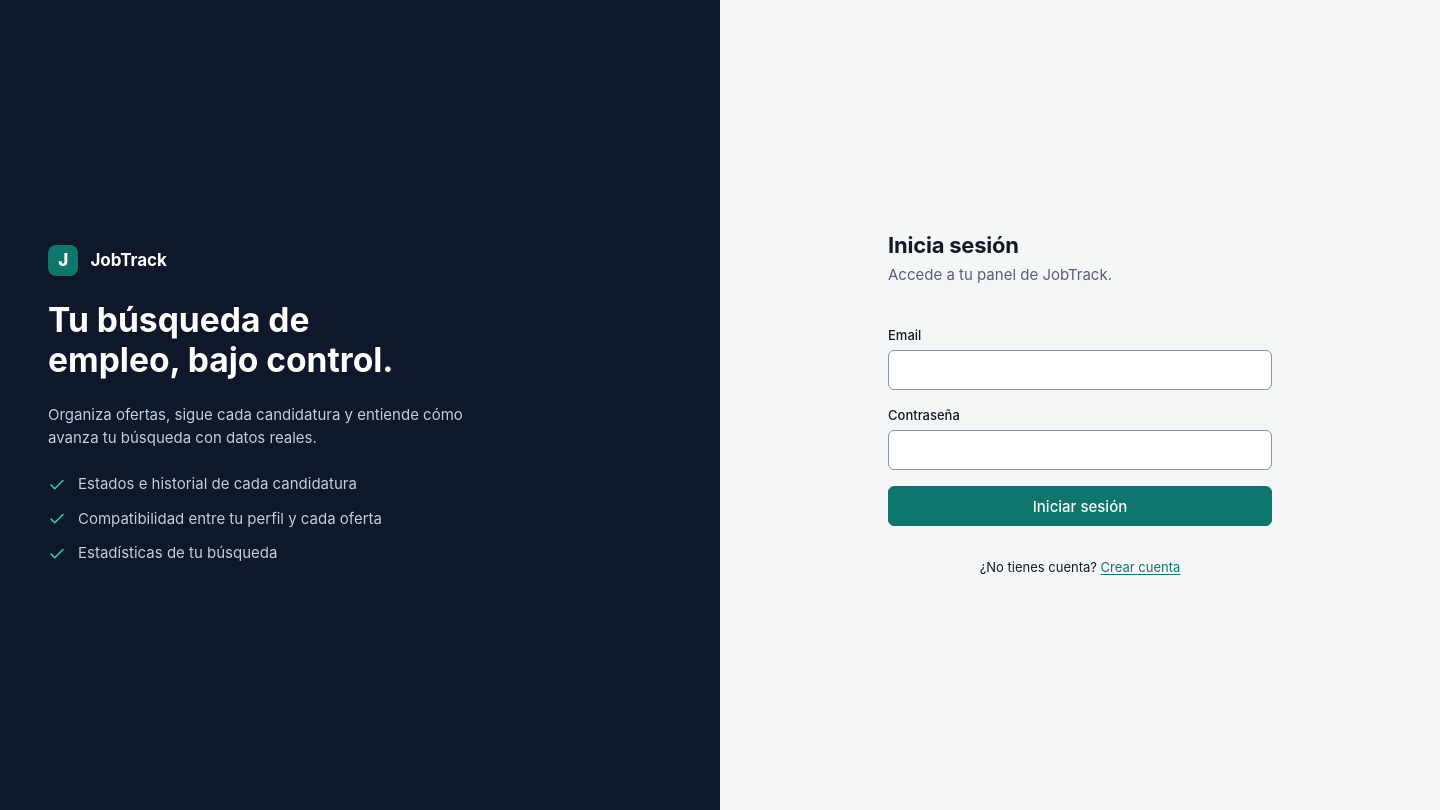
LoginComponent › muestra el error del servidor y no navega
Type "ana@example.com" into the field with id "email" at coordinates (1080, 370), box [888,350,1272,390]
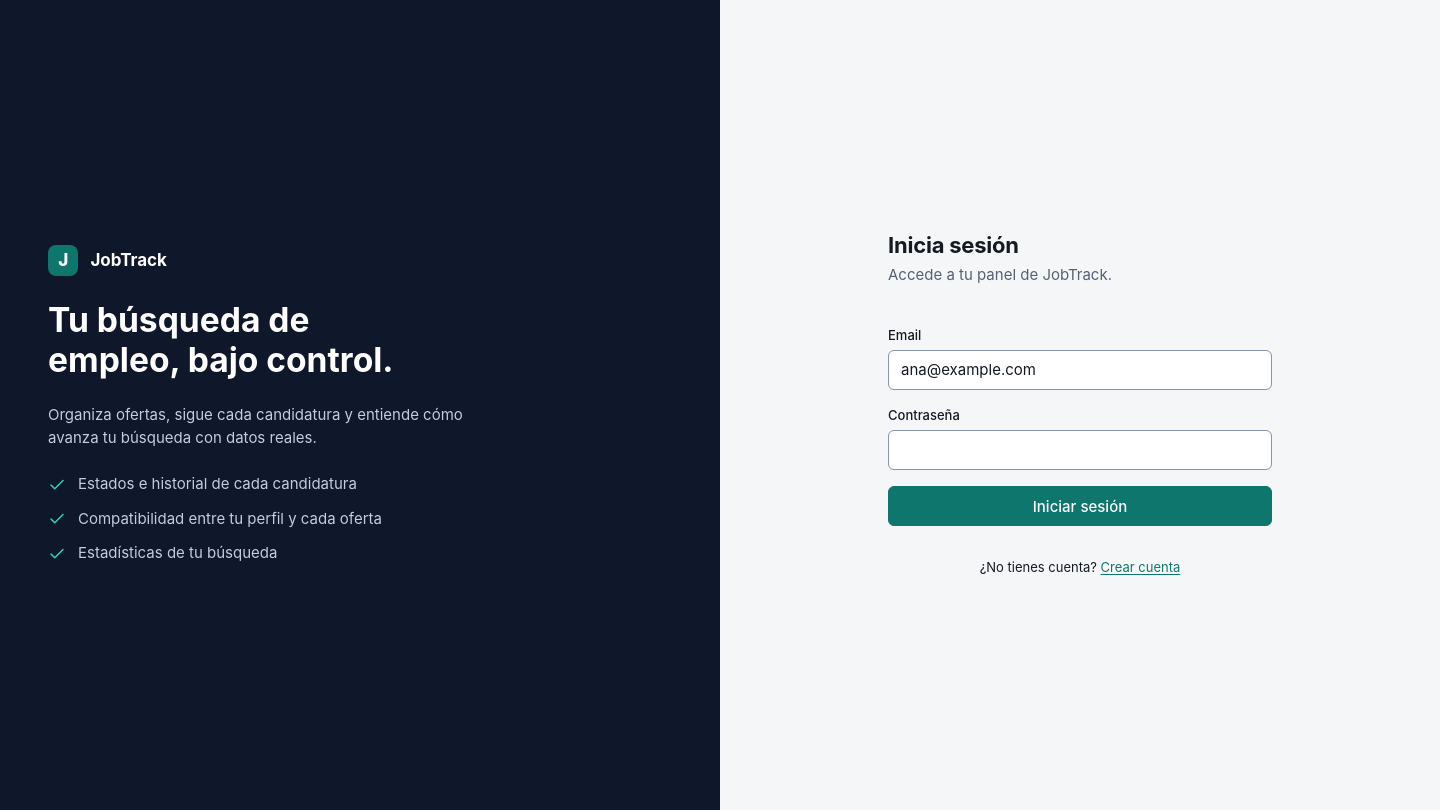
Type "wrong-password" into the password field labelled "Contraseña" at coordinates (1080, 450), box [888,430,1272,470]
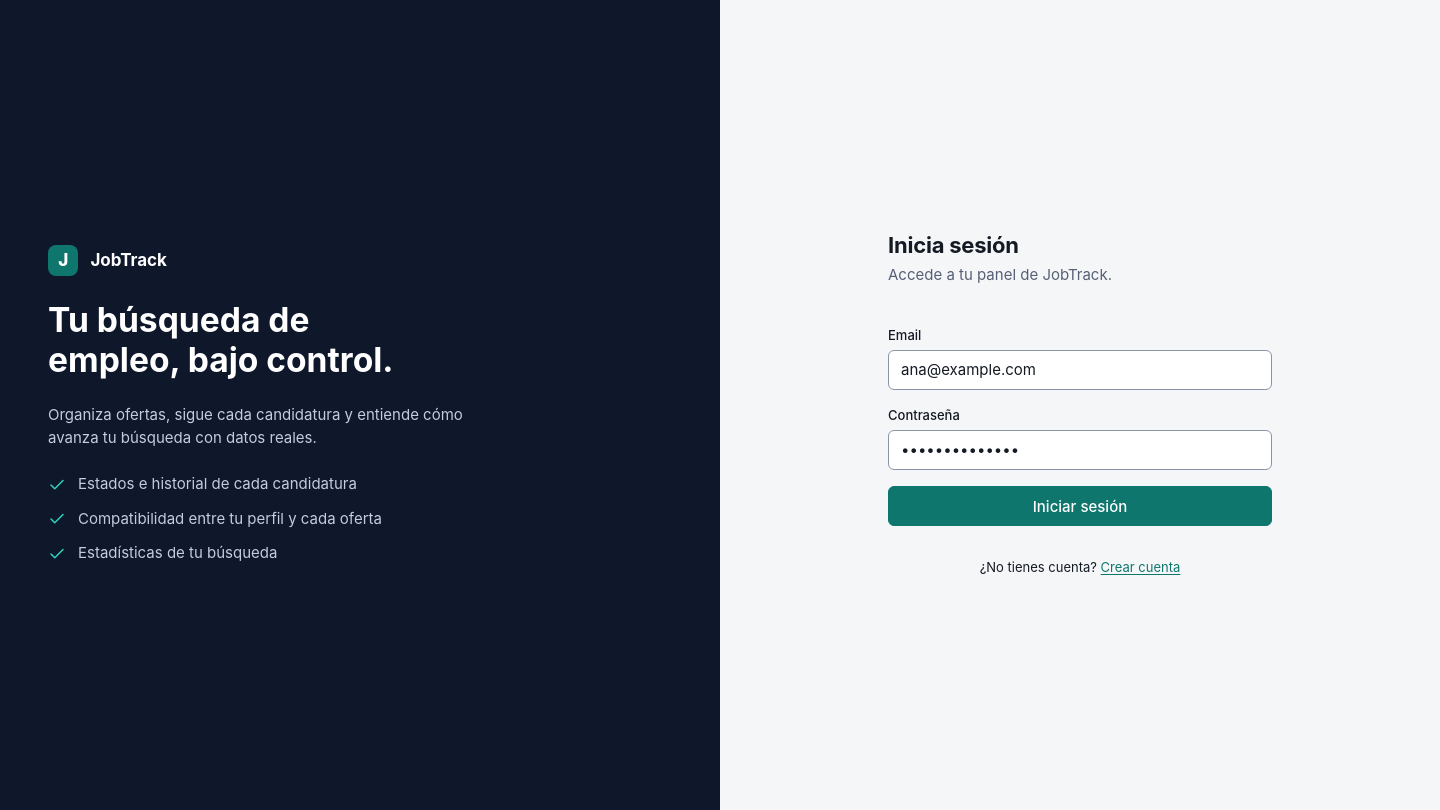
Submit the form, box [888,232,1272,578]
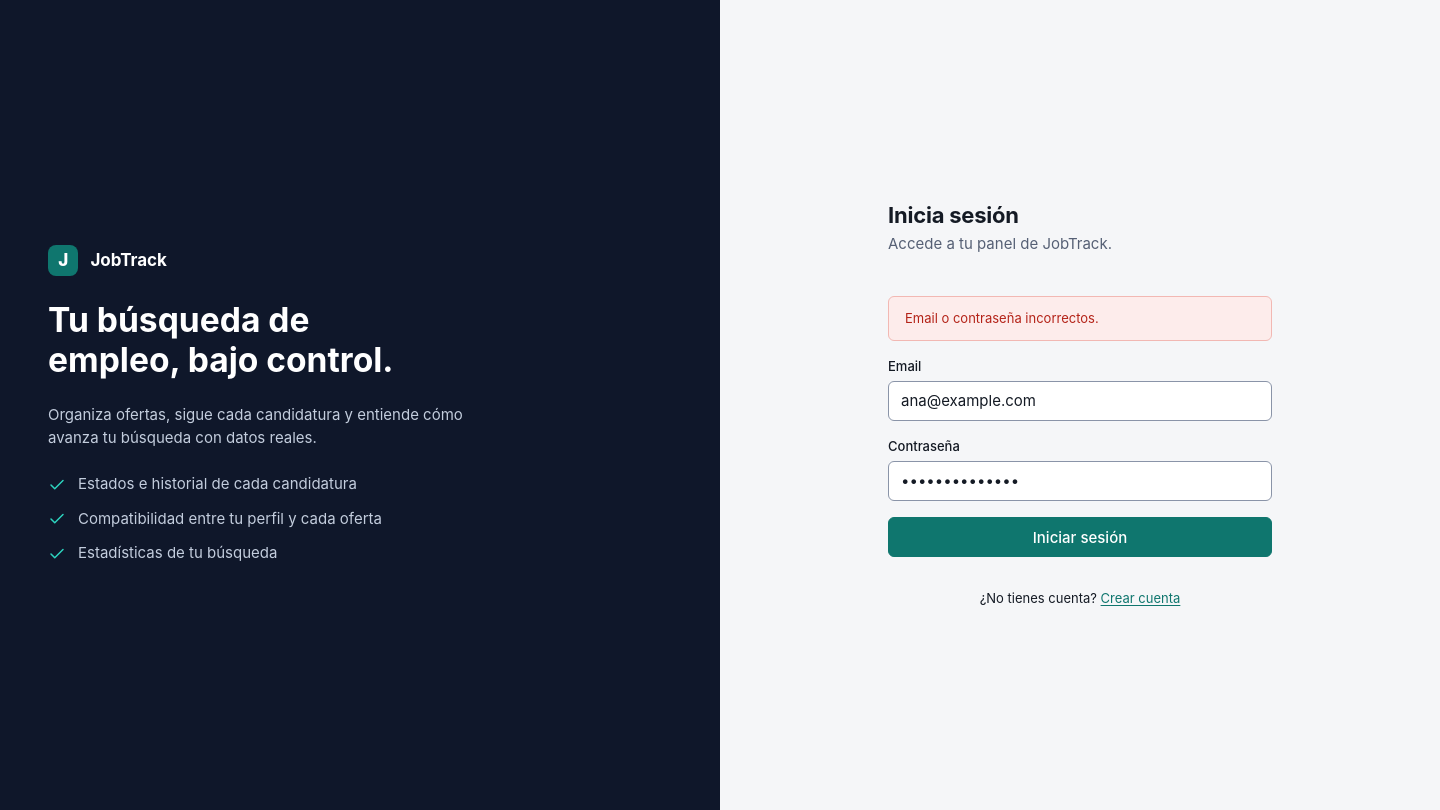
Now the message "Email o contraseña incorrectos." is shown, box [888,296,1272,341]
